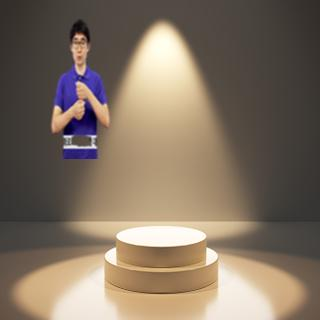CAREFUL: (71, 78, 91, 122)
